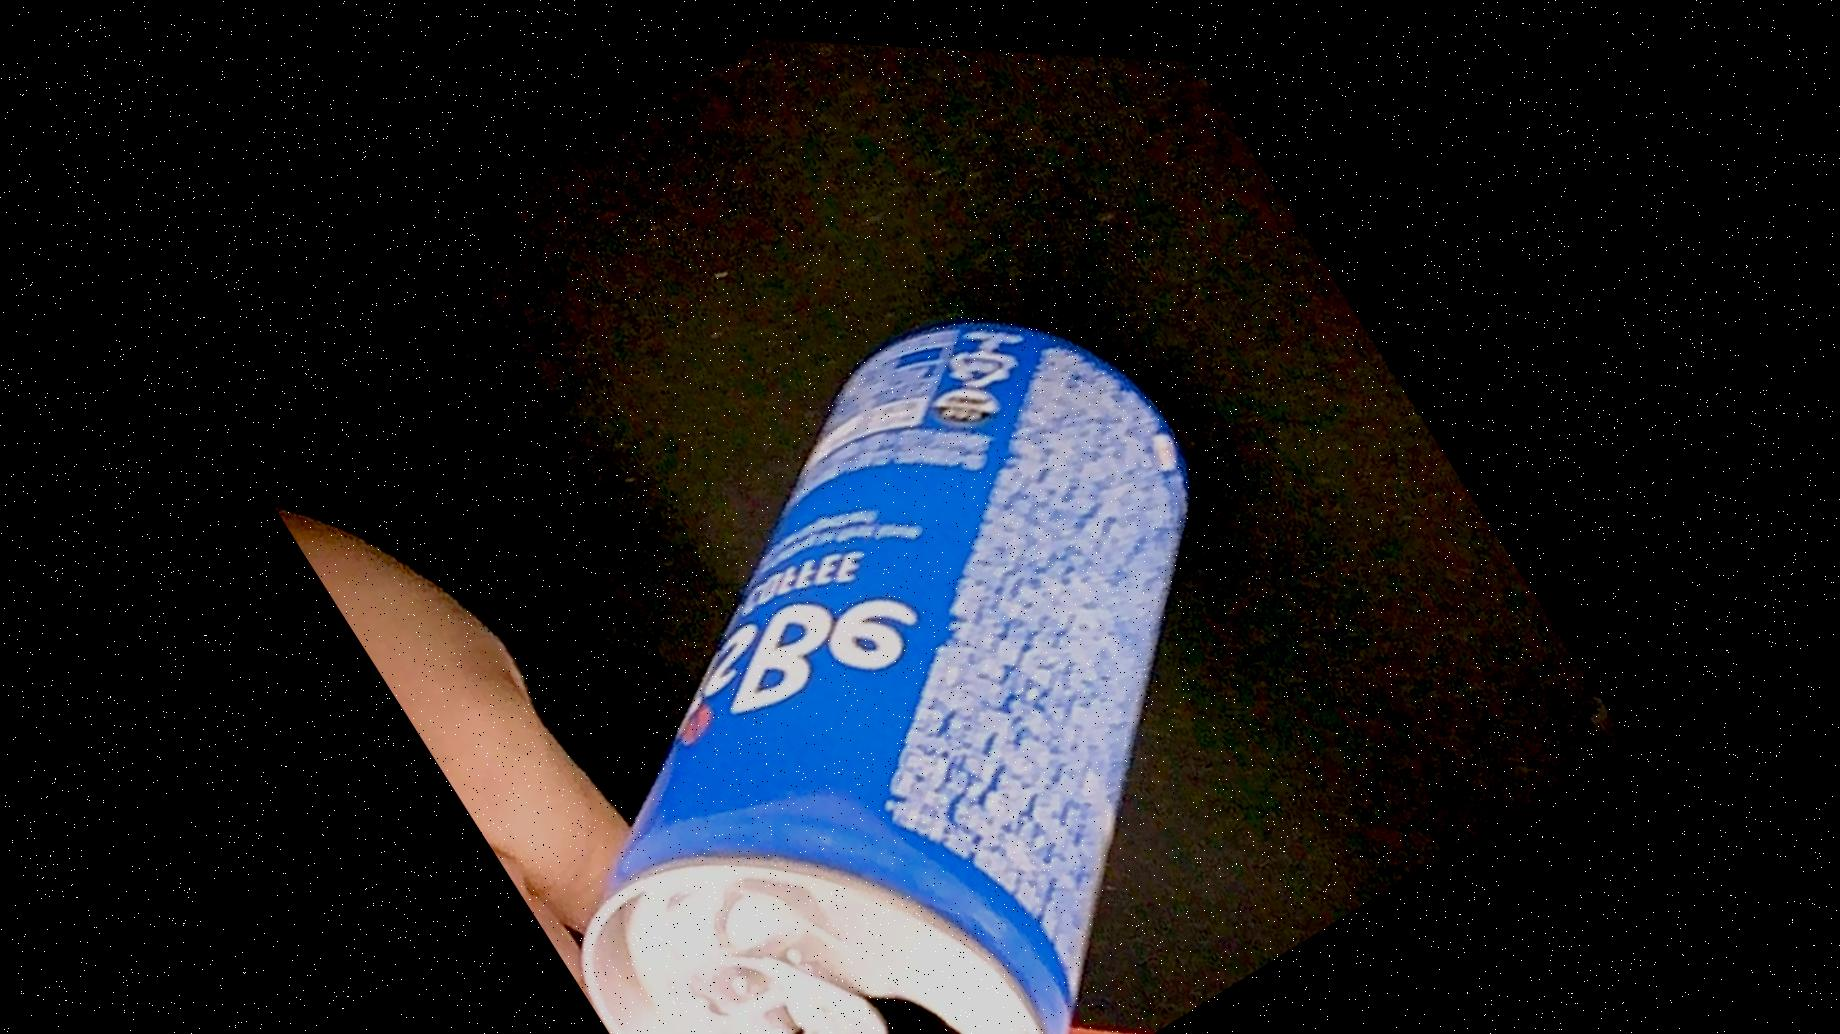letsbe: (367, 200, 1452, 1034)
